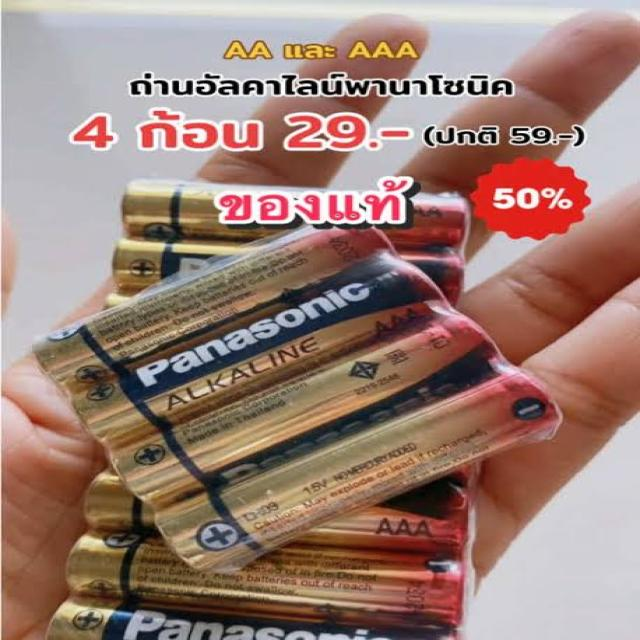battery: (70, 234, 529, 572)
